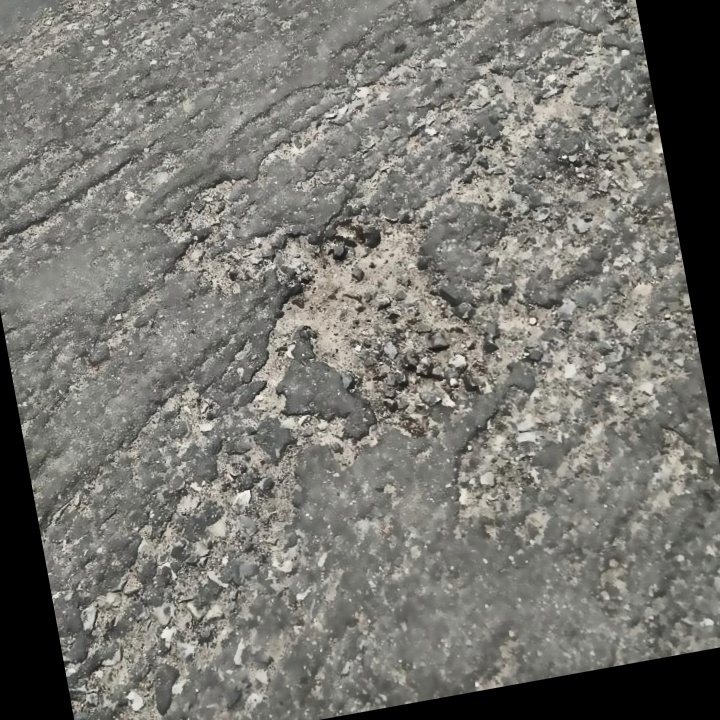pothole: (246, 189, 494, 446)
